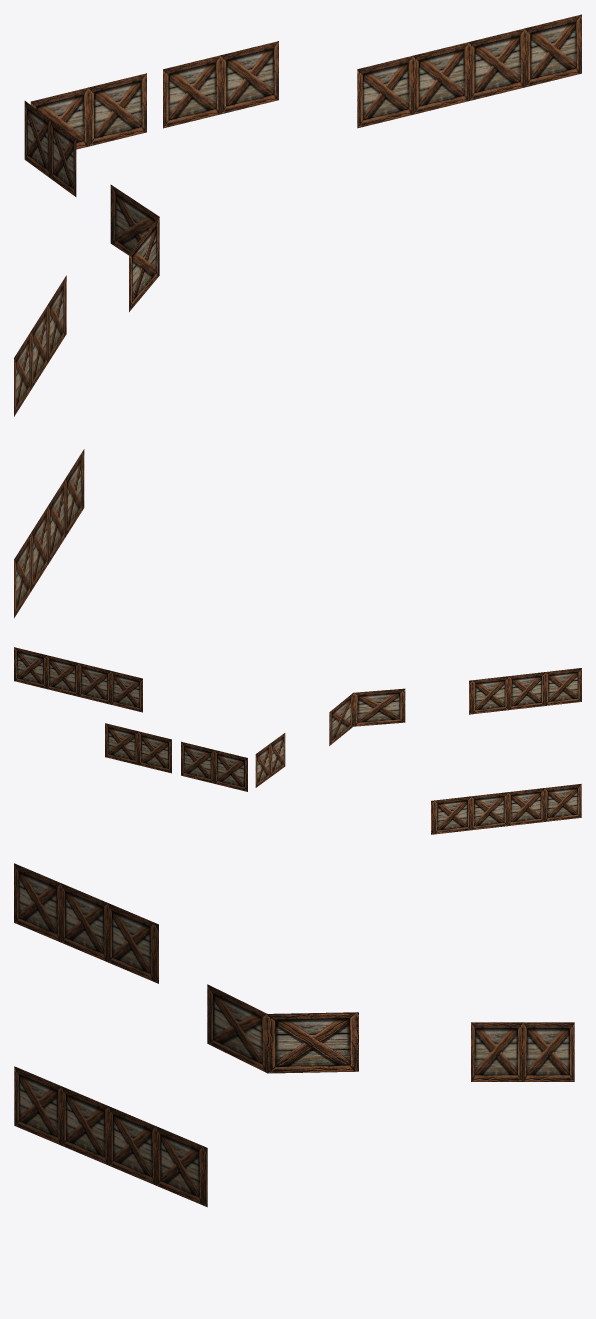
File: LAKETOWN_EXTERIOR_PS_LT_PANELS2674.fbx
The picture shows the model from 3 angles, top to bottom: view 1: azimuth 30°, elevation 25°; view 2: azimuth 150°, elevation 25°; view 3: azimuth 270°, elevation 25°; orthographic projection. The views are drawn at different scales.
Visible parts, largest first — view 1: LAKETOWN_EXTERIOR_PS_LT_PANELS2674; view 2: LAKETOWN_EXTERIOR_PS_LT_PANELS2674; view 3: LAKETOWN_EXTERIOR_PS_LT_PANELS2674.
Part boxes in pixels (bbox=[...]): LAKETOWN_EXTERIOR_PS_LT_PANELS2674: bbox=[14, 14, 581, 618]; LAKETOWN_EXTERIOR_PS_LT_PANELS2674: bbox=[14, 647, 581, 834]; LAKETOWN_EXTERIOR_PS_LT_PANELS2674: bbox=[14, 863, 574, 1207].
Bounding box in the file's own units: 140830 × 45109 × 88486.
Materials: 1 (1 with a texture image).
